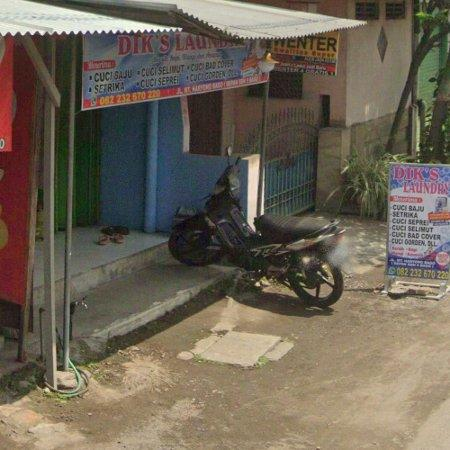motorcycles: (169, 162, 345, 308)
